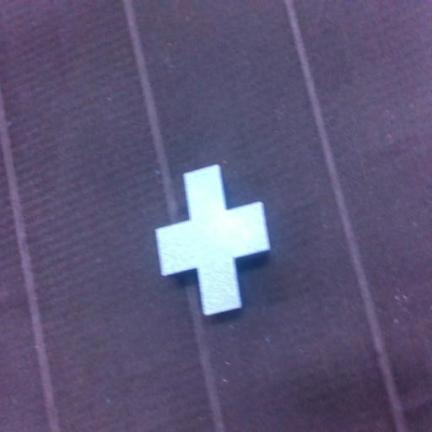cross: (157, 166, 269, 315)
